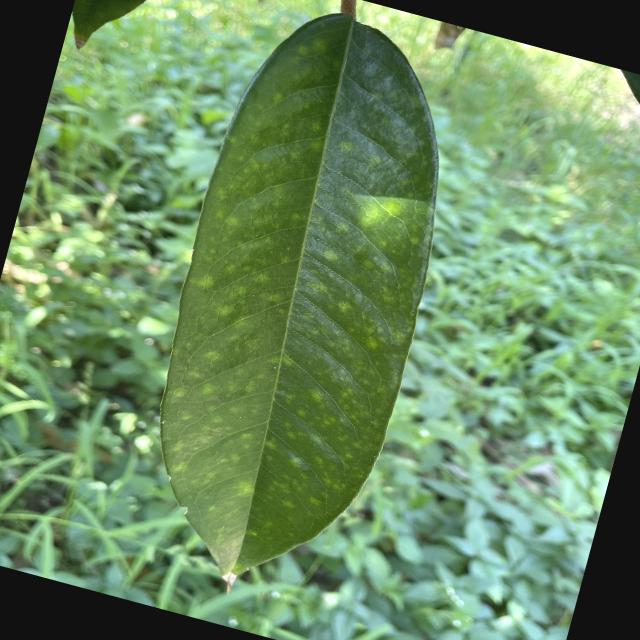Leaf Spot: (98, 0, 497, 622)
